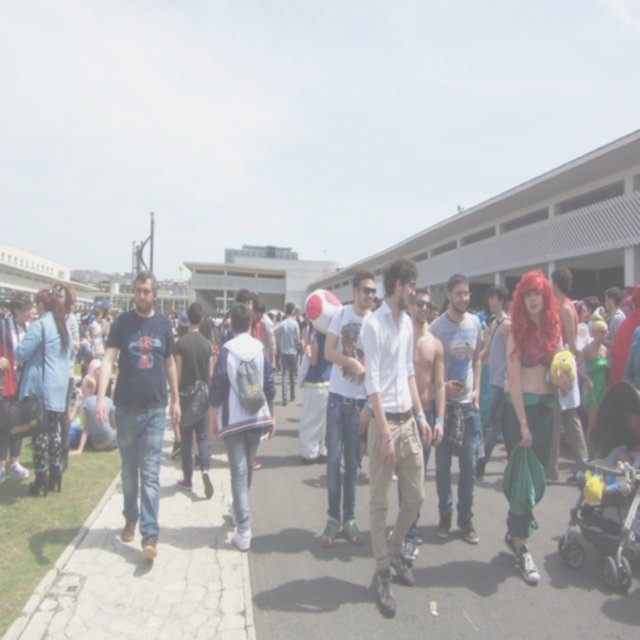pessoa: (358, 254, 436, 618), (93, 265, 183, 566), (498, 262, 578, 586), (206, 298, 280, 557), (424, 272, 484, 546), (319, 268, 377, 550), (396, 284, 448, 566), (11, 286, 76, 497), (544, 266, 590, 486), (169, 300, 217, 500), (355, 295, 398, 483), (476, 284, 514, 480), (0, 290, 37, 488), (28, 522, 148, 573), (298, 318, 338, 466), (50, 280, 80, 474), (252, 576, 370, 618), (574, 320, 608, 459), (296, 308, 332, 423), (68, 377, 119, 458), (192, 316, 215, 470), (478, 312, 504, 445), (609, 284, 640, 388), (600, 286, 628, 393), (277, 302, 301, 406), (218, 286, 254, 351), (250, 292, 278, 372), (603, 450, 634, 496), (301, 319, 318, 386), (80, 359, 102, 407), (68, 385, 84, 448), (172, 308, 190, 364), (626, 326, 640, 388), (292, 304, 304, 376), (248, 298, 266, 342), (100, 306, 113, 352), (91, 308, 106, 347), (272, 314, 282, 372), (300, 312, 310, 366), (570, 299, 590, 324), (588, 296, 608, 321), (466, 302, 490, 322), (81, 349, 95, 382), (207, 310, 231, 326), (78, 332, 92, 352), (80, 311, 90, 338), (110, 306, 130, 319), (370, 295, 384, 313), (89, 309, 98, 336), (428, 304, 439, 326), (621, 290, 631, 314), (269, 310, 284, 322), (440, 296, 450, 314), (0, 304, 11, 320), (30, 298, 37, 323), (503, 301, 516, 312), (165, 306, 173, 318), (75, 309, 81, 321), (172, 313, 176, 328), (86, 308, 92, 314), (177, 314, 180, 324), (78, 306, 82, 312)
